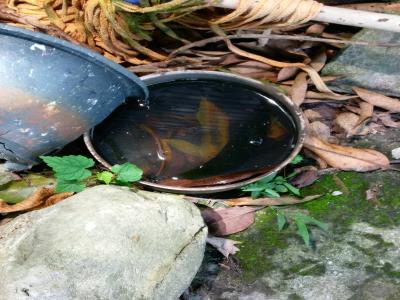bowl: (80, 63, 310, 202), (1, 25, 149, 167)
